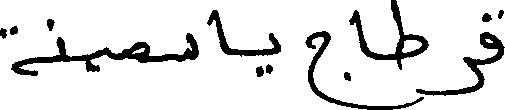X: (393, 0, 427, 109), (445, 29, 480, 100), (0, 21, 42, 80), (482, 5, 504, 91), (306, 26, 329, 106), (353, 5, 367, 109), (173, 28, 197, 66), (213, 5, 227, 59), (129, 37, 148, 67), (269, 28, 280, 78), (57, 32, 65, 66), (102, 42, 109, 62)
